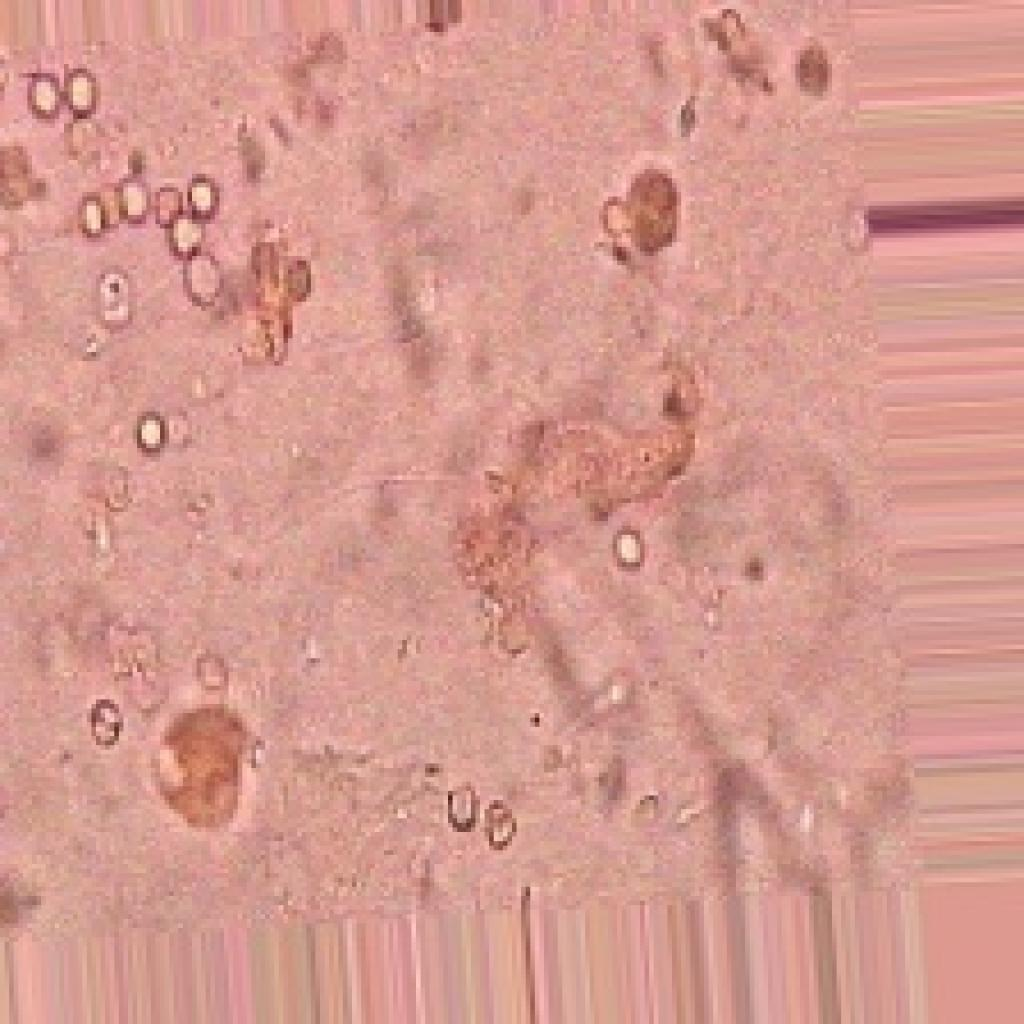Yeast: (0, 25, 880, 842)
